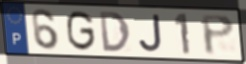1: (173, 12, 193, 57)
6: (30, 8, 61, 53)
D: (97, 11, 132, 54)
G: (66, 9, 97, 53)
J: (138, 13, 164, 54)
P: (199, 14, 237, 57)
